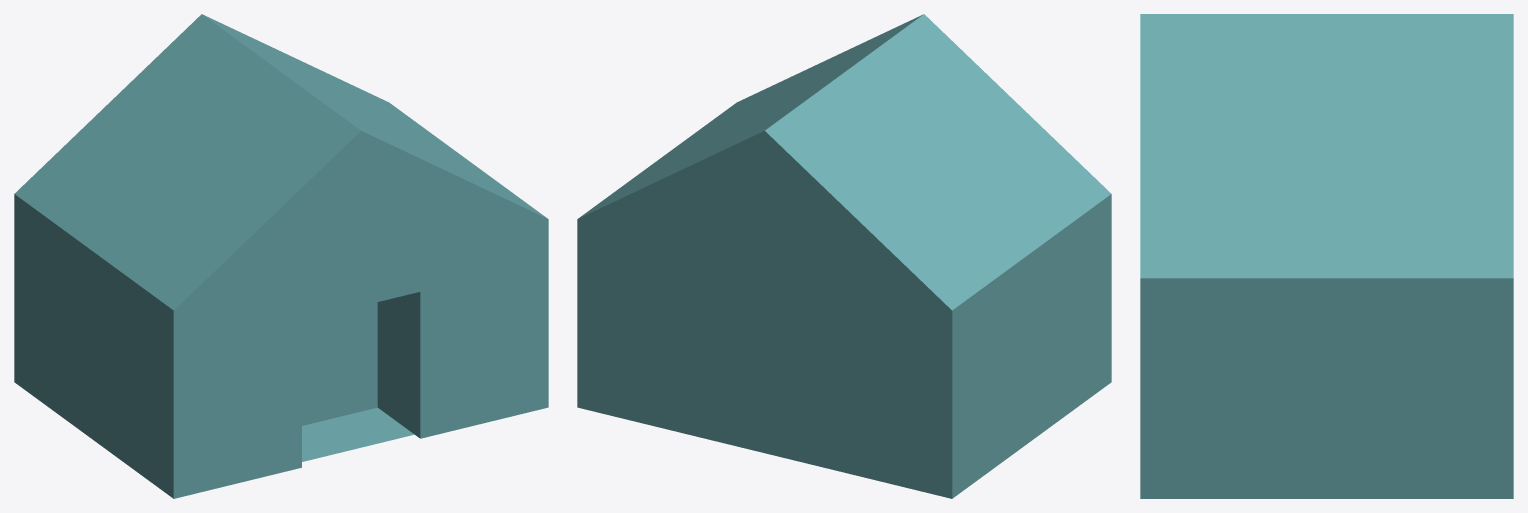
The picture shows the model from 3 angles, left to right: view 1: azimuth 30°, elevation 25°; view 2: azimuth 150°, elevation 25°; view 3: azimuth 270°, elevation 25°; orthographic projection. The views are drawn at different scales.
Parts seen in each view (by area): view 1: 00_polygon0; view 2: 00_polygon0; view 3: 00_polygon0.
Boxes of the visible parts, left/top/right/bottom form: 00_polygon0: left=14, top=14, right=548, bottom=498; 00_polygon0: left=577, top=14, right=1111, bottom=498; 00_polygon0: left=1140, top=14, right=1513, bottom=498.
Size of the model in its own units: 0.2969 by 0.2441 by 0.2188.
